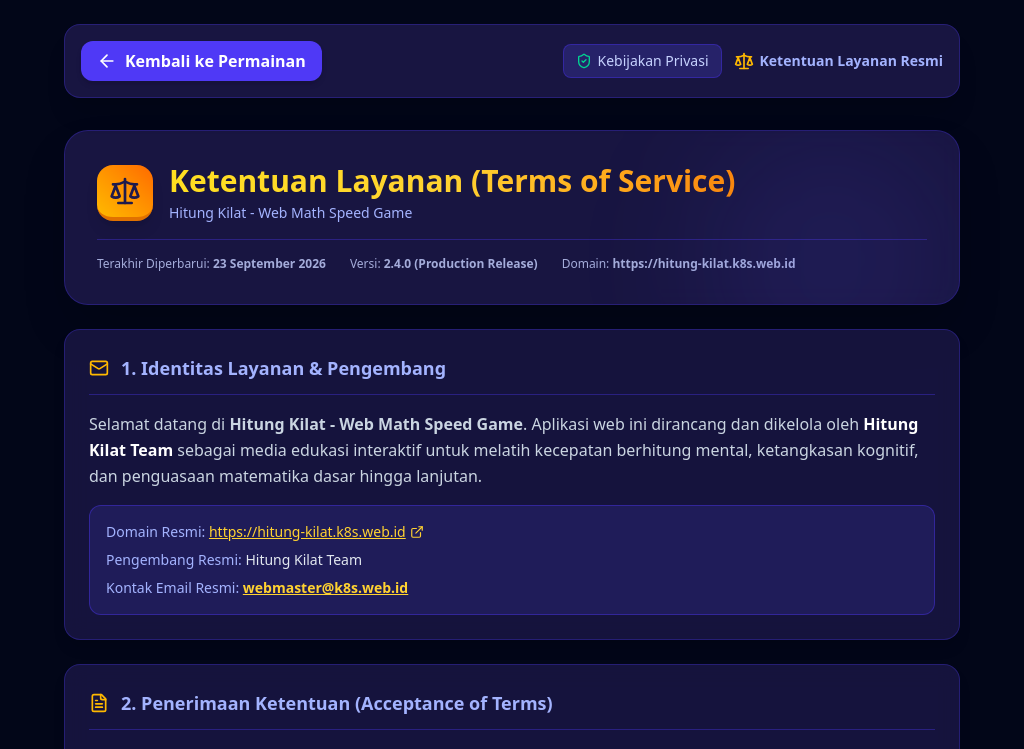
Test case: Terms Routing Integration › allows cross-navigation between Terms of Service and Privacy Policy screens
The width and height of the screenshot is (1024, 749).
Check: the heading "Ketentuan Layanan (Terms of Service)" is shown, box [169,163,735,199]
Navigate from Terms to Privacy
Click the button "Kebijakan Privasi" at (642, 61), box [562,44,722,78]
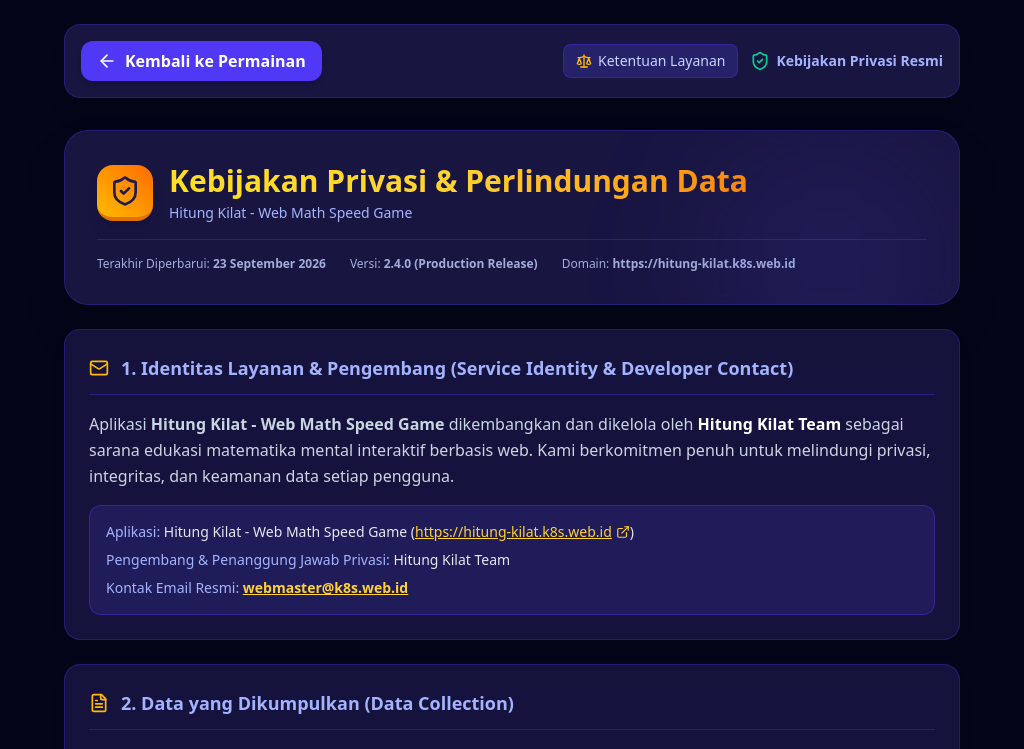
Check: the heading "Kebijakan Privasi & Perlindungan Data" is shown, box [169,163,748,199]
Navigate from Privacy to Terms
Click the button "Ketentuan Layanan" at (651, 61), box [563,44,738,78]
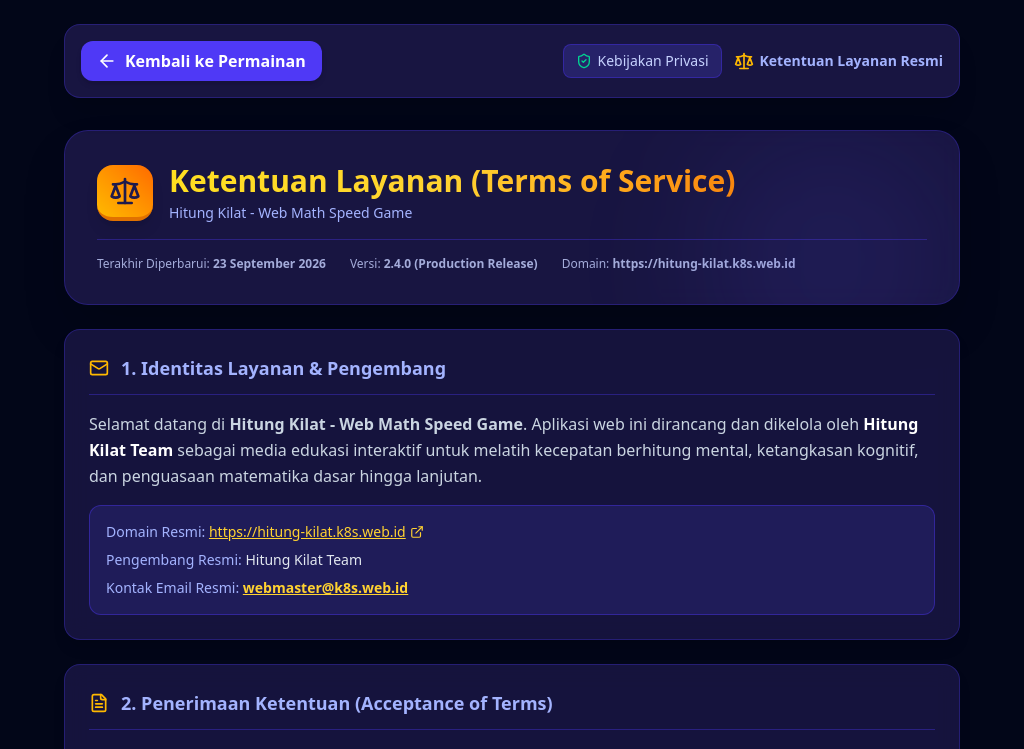
Check: the heading "Ketentuan Layanan (Terms of Service)" is shown, box [169,163,735,199]
